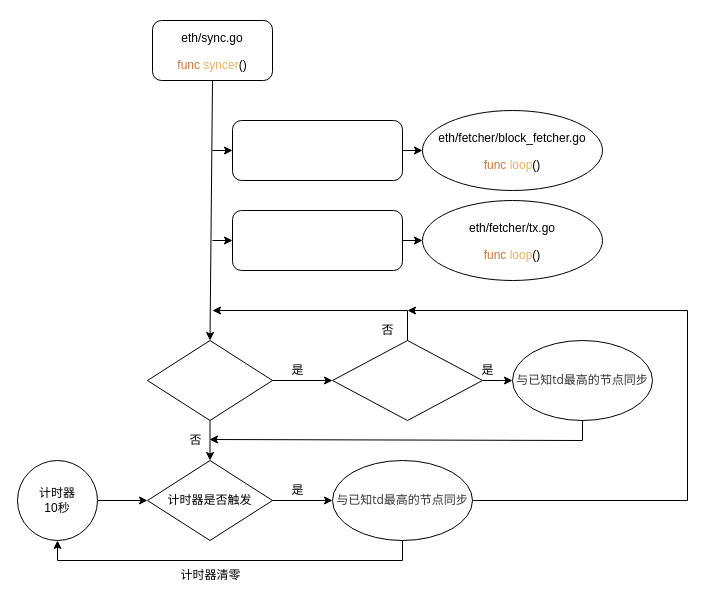
Some shapes in this 713 by 603 pixel diagram are drawn without their labels. The shapes that lost their labels are listed below. From the top down, each one's box as (x1, y1, x2, y2) in pixels, then its label:
(232, 120, 402, 180): eth/fetcher/block_fetcher.go func Start ()
(232, 210, 402, 270): eth/fetcher/tx_fetcher.go func Start ()
(146, 340, 272, 420): 是否有新节点加入
(332, 340, 482, 420): 已知节点个数是否>=5
